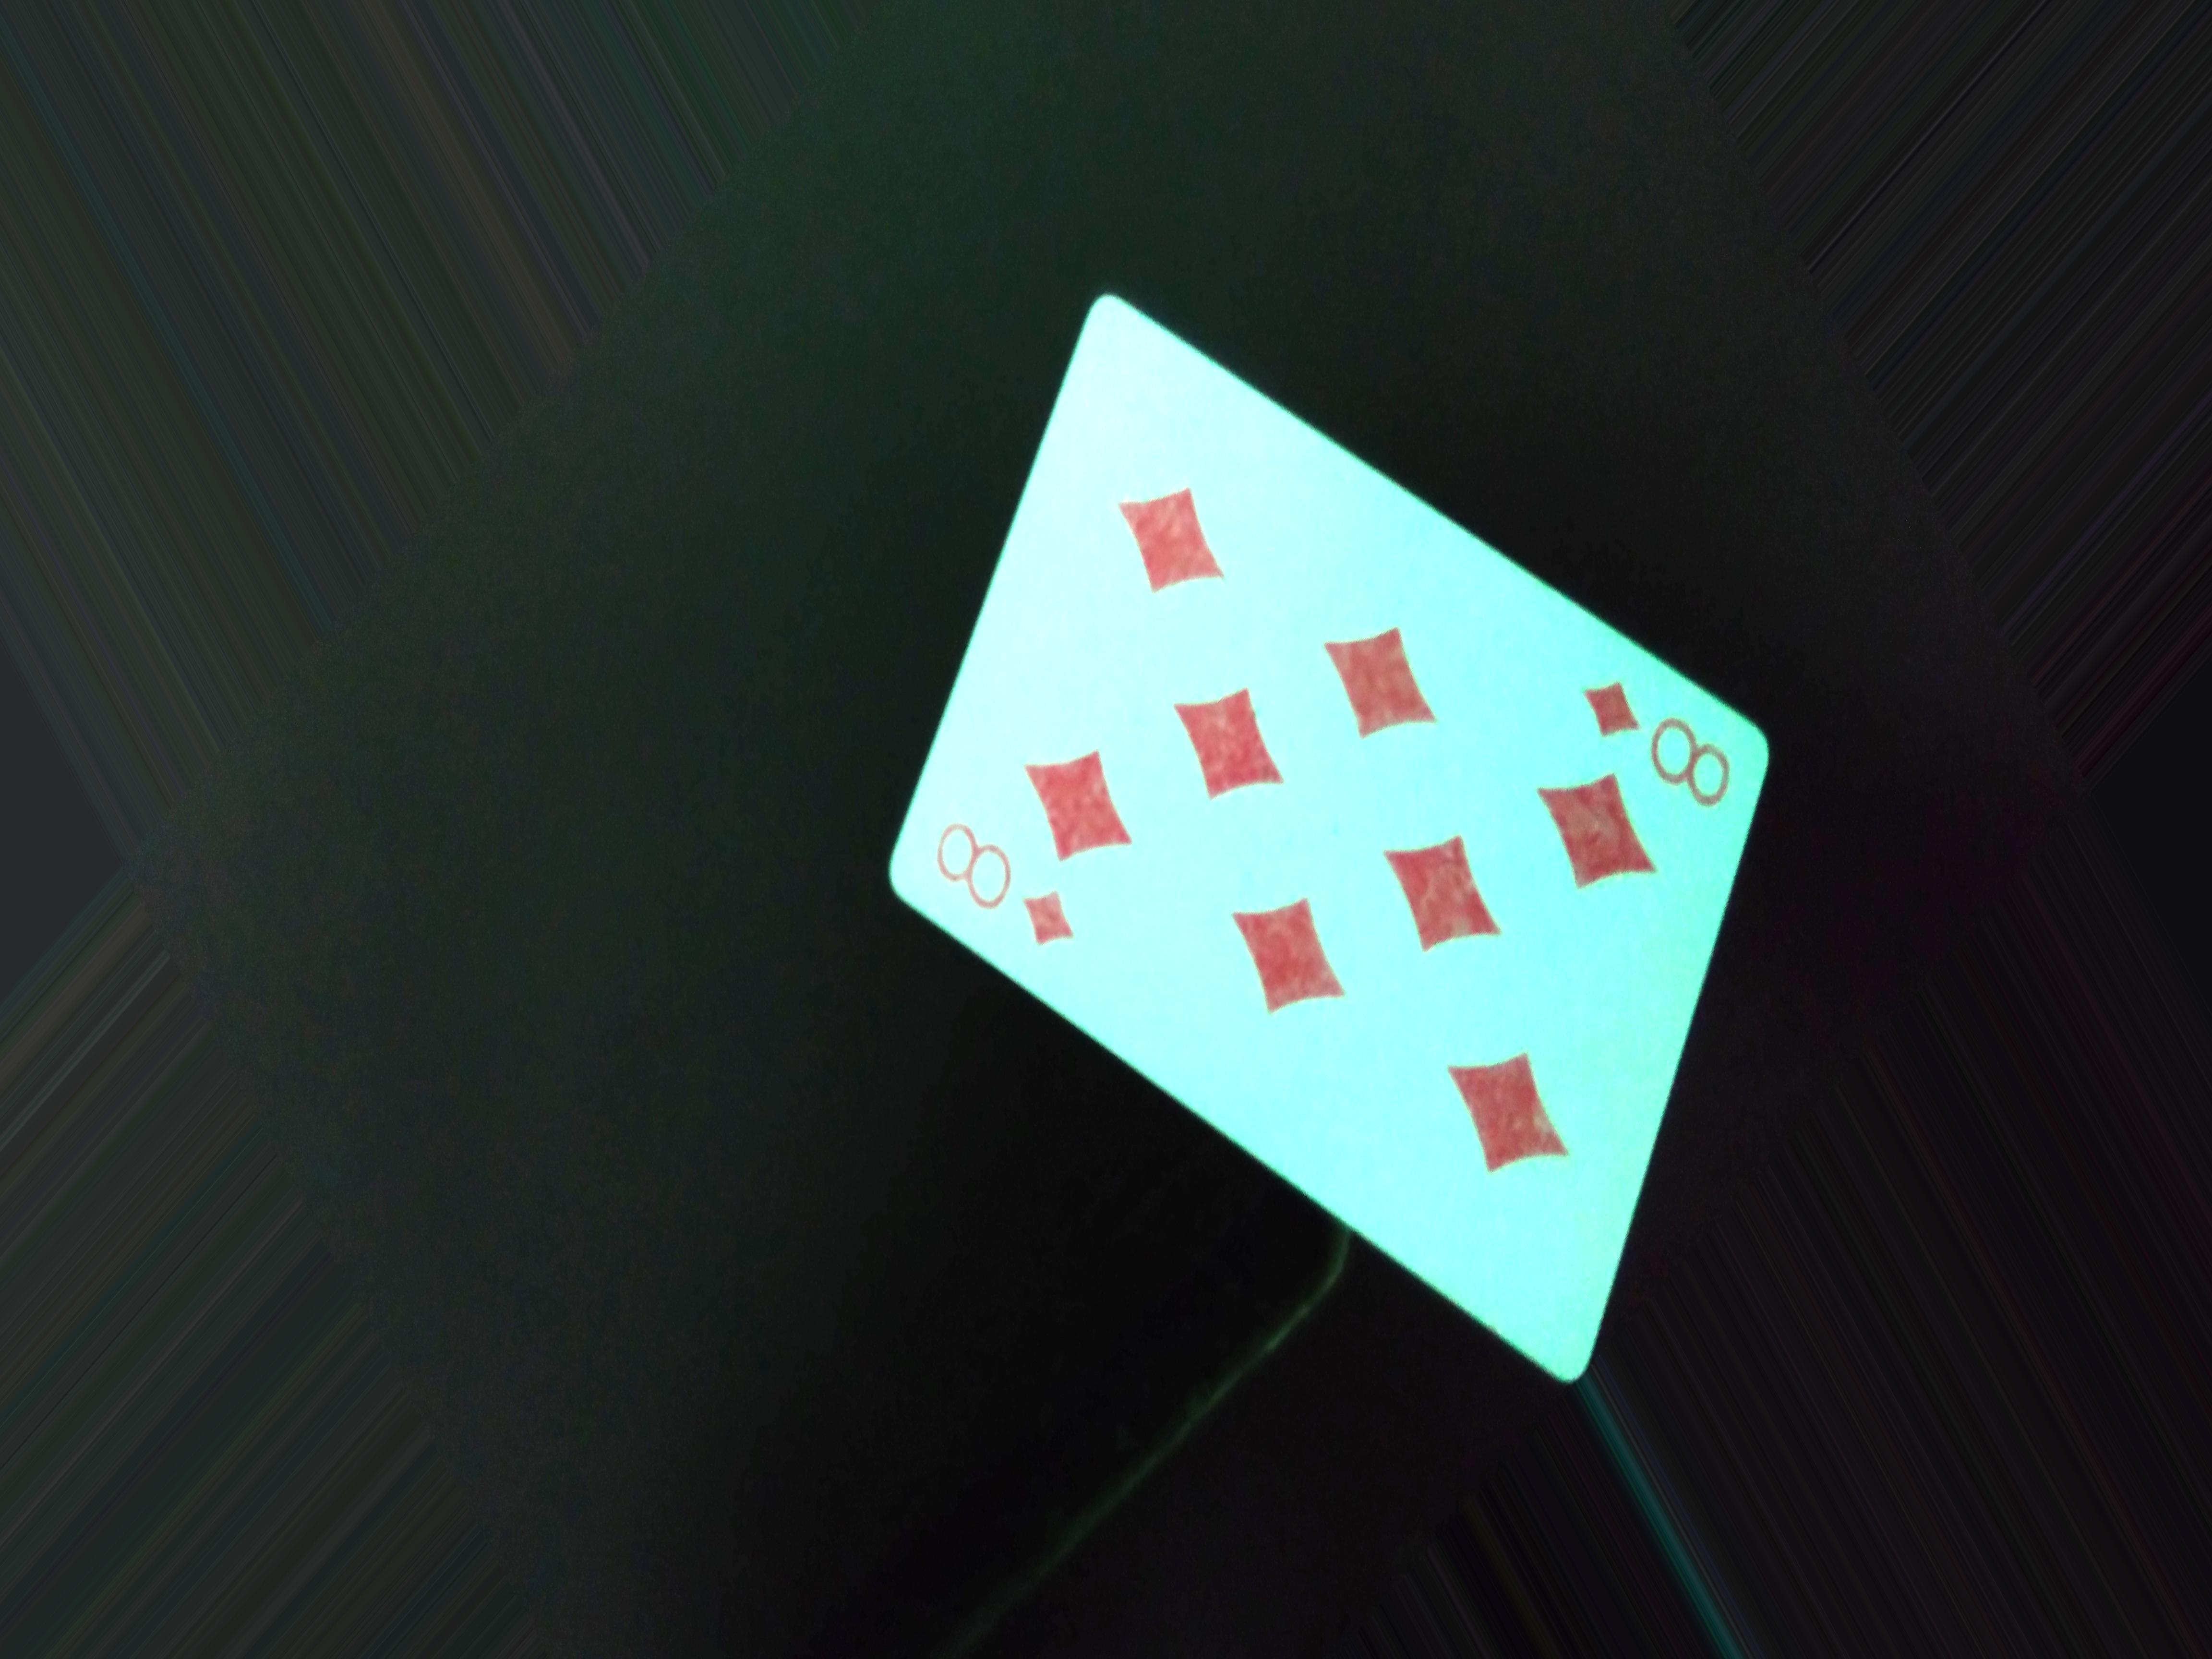8D: (914, 816, 1122, 969)
